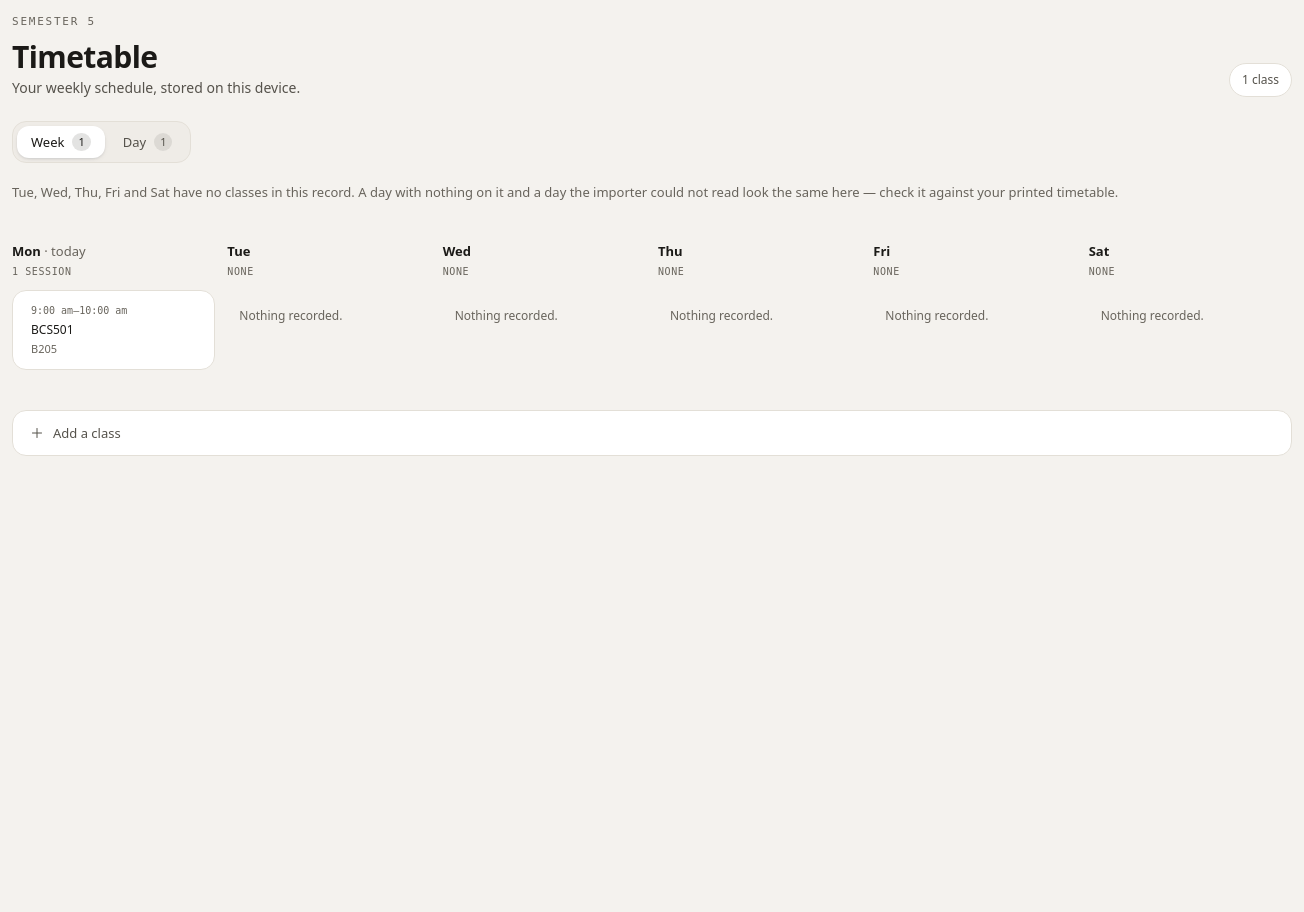
Test: a day the college is shut › offers no class actions when the calendar printed a holiday
Click the tab "Day 1".
click(148, 142)  # box [109,126,186,158]
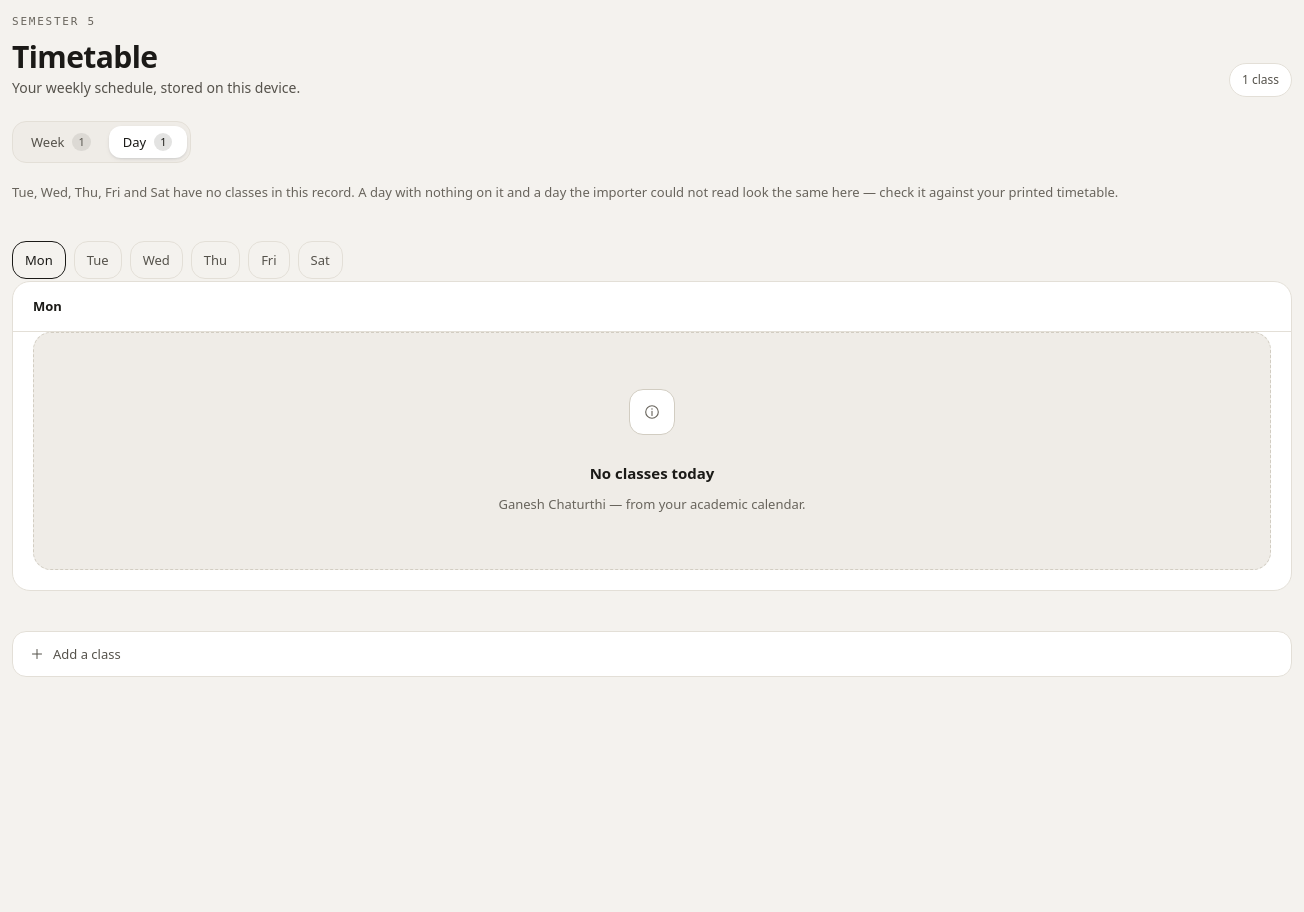
Result: the text "Ganesh Chaturthi — from your academic calendar." is shown at [498,495,806,513]
